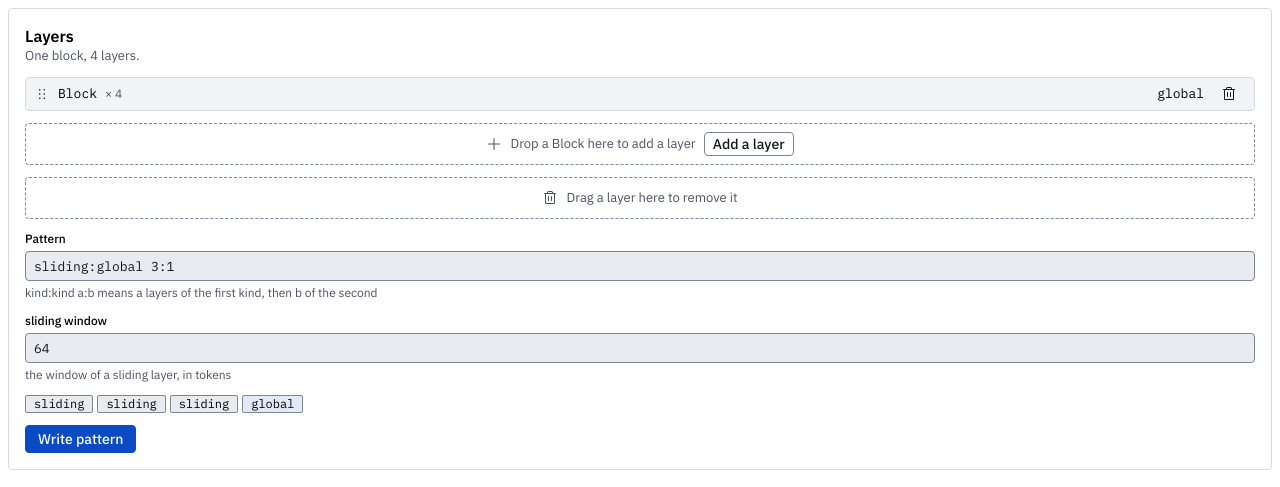
StackPanel › a pattern that is not one cannot be written, and says why
Step 1. Replace the text in the field labelled "Pattern" with "fast:global 3:1" → [640, 266], box [25,251,1255,281]
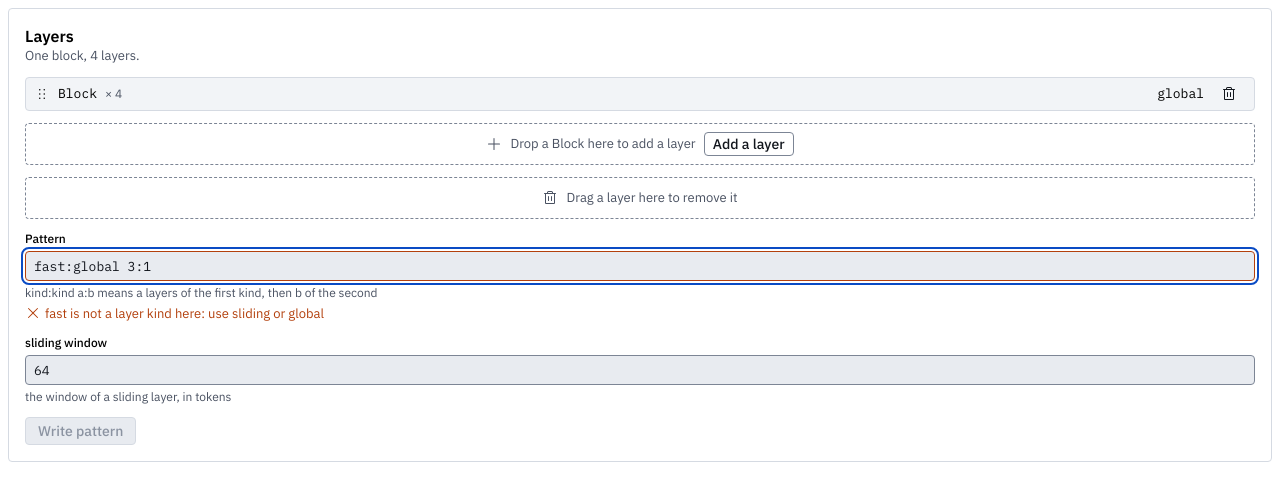
Result: the button "Write pattern" is disabled at [25,417,136,445]
Result: the text "fast is not a layer kind here: use sliding or global" is shown at [45,305,324,323]
